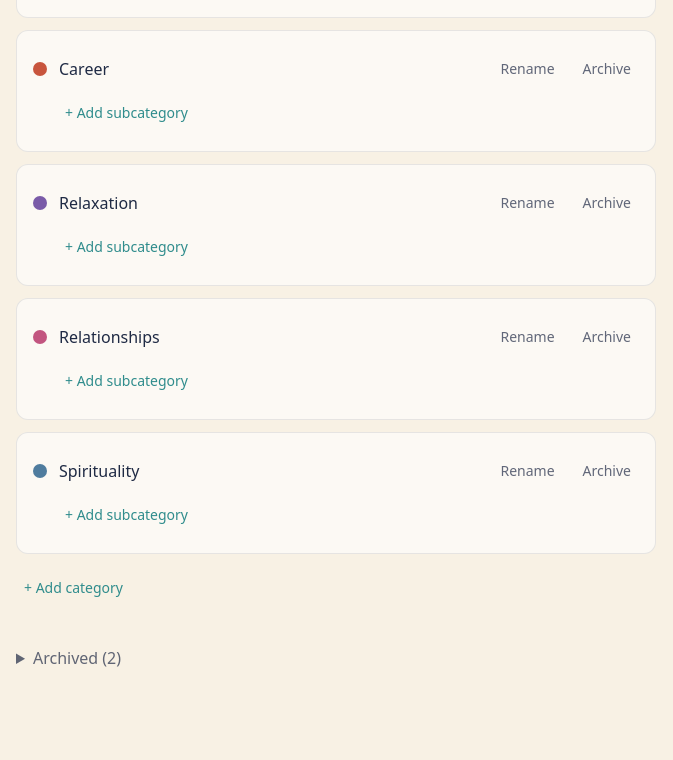
Test: CategoriesScreen › allows a name that only an archived sibling uses
(page scrolled)
Click the button "+ Add category".
click(74, 588)  # box [16,566,131,610]
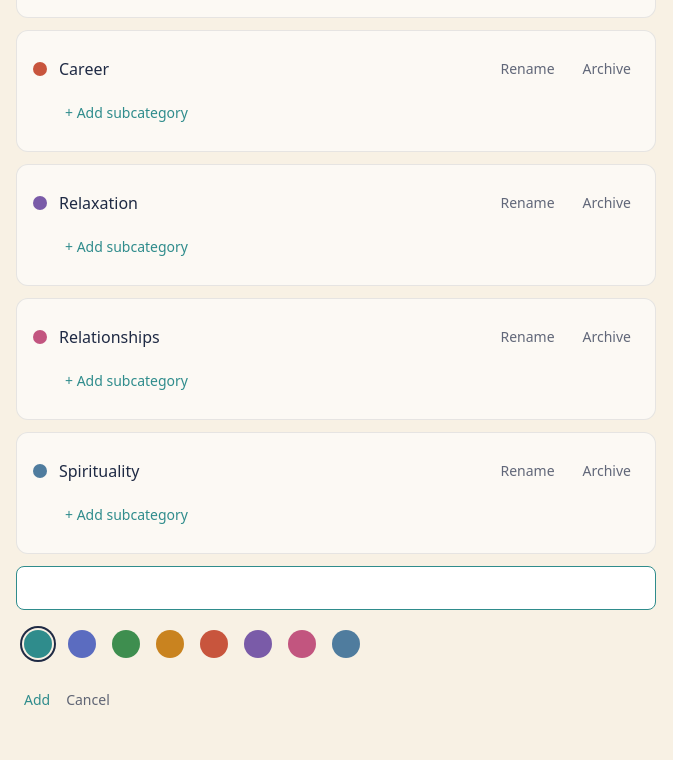
Type "hobbies" into the field named "New category name".
click(336, 588); type("hobbies")  # box [16,566,656,610]
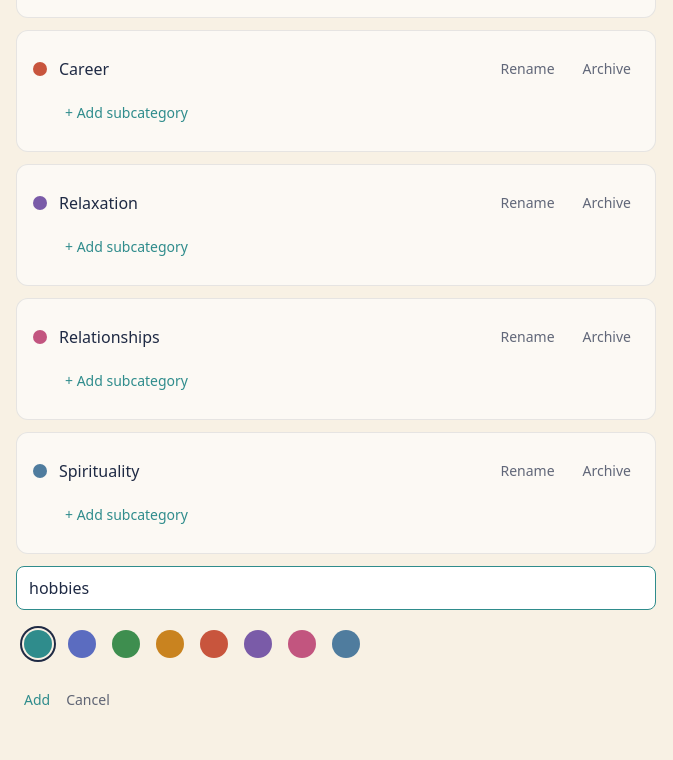
Submit the form named "New category name", box [16,566,656,722]
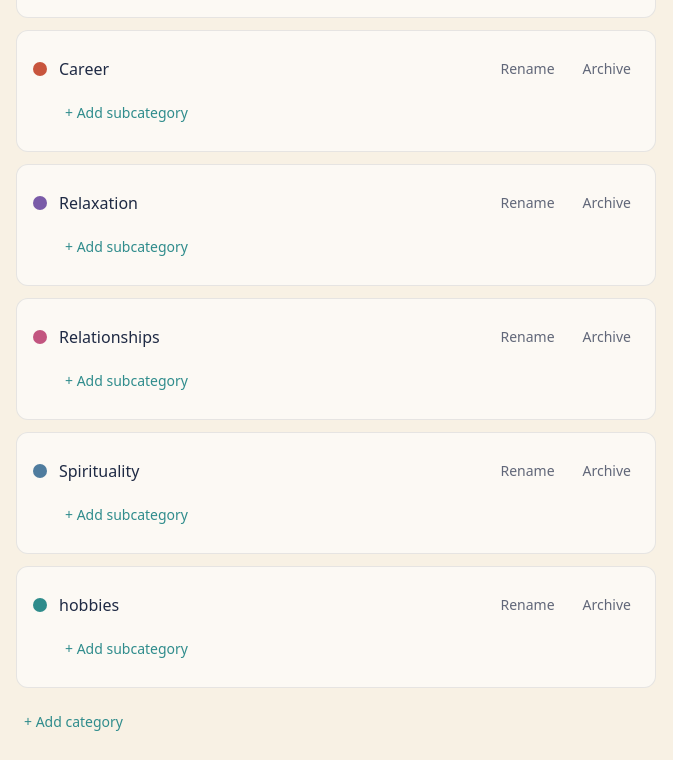
Check: the field is gone
Check: the button with aria-label "Archive hobbies" is shown, box [574,583,639,627]
